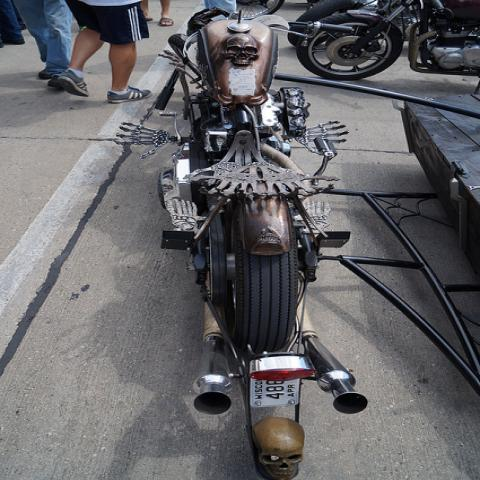motorcycle: (115, 9, 371, 468), (297, 0, 479, 81), (291, 1, 407, 22)
